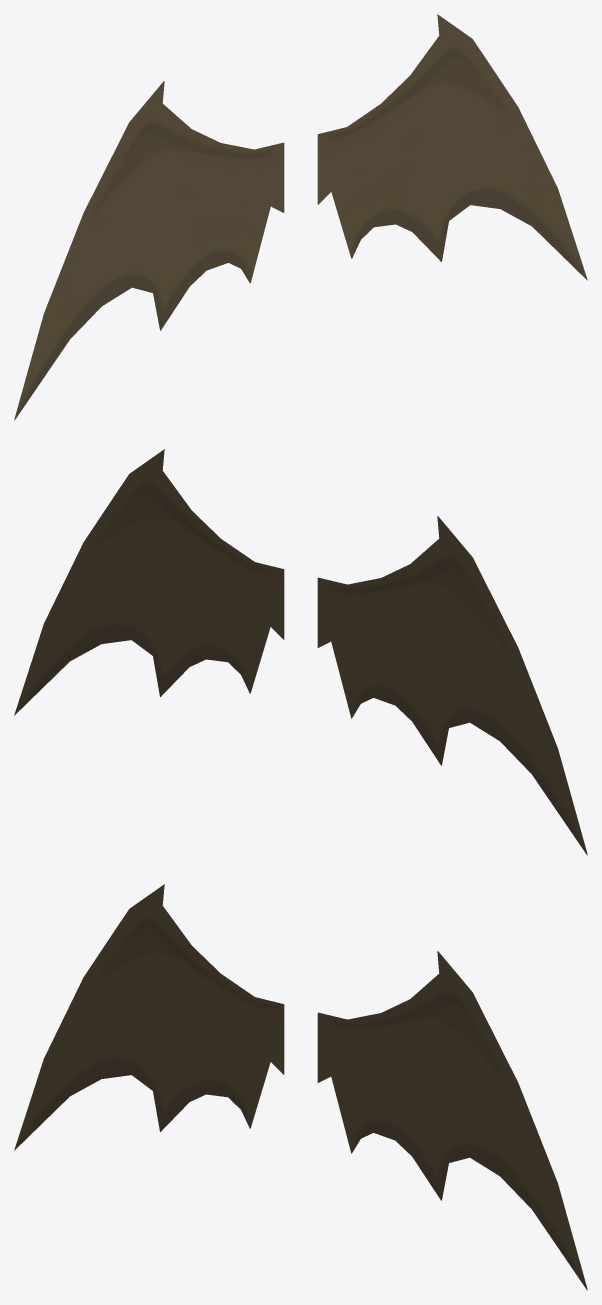
File: back_acc_05.FBX
3 views of the same model, one above another, from view 1: azimuth 30°, elevation 25°; view 2: azimuth 150°, elevation 25°; view 3: azimuth 330°, elevation 25° (orthographic).
Parts seen in each view (by area): view 1: back_acc_05; view 2: back_acc_05; view 3: back_acc_05.
Part boxes in pixels (<box>): back_acc_05: <box>14,14,587,420</box>; back_acc_05: <box>14,449,587,855</box>; back_acc_05: <box>14,884,587,1290</box>.
Size of the model in its own units: 38.34 by 19.38 by 0.0533.
